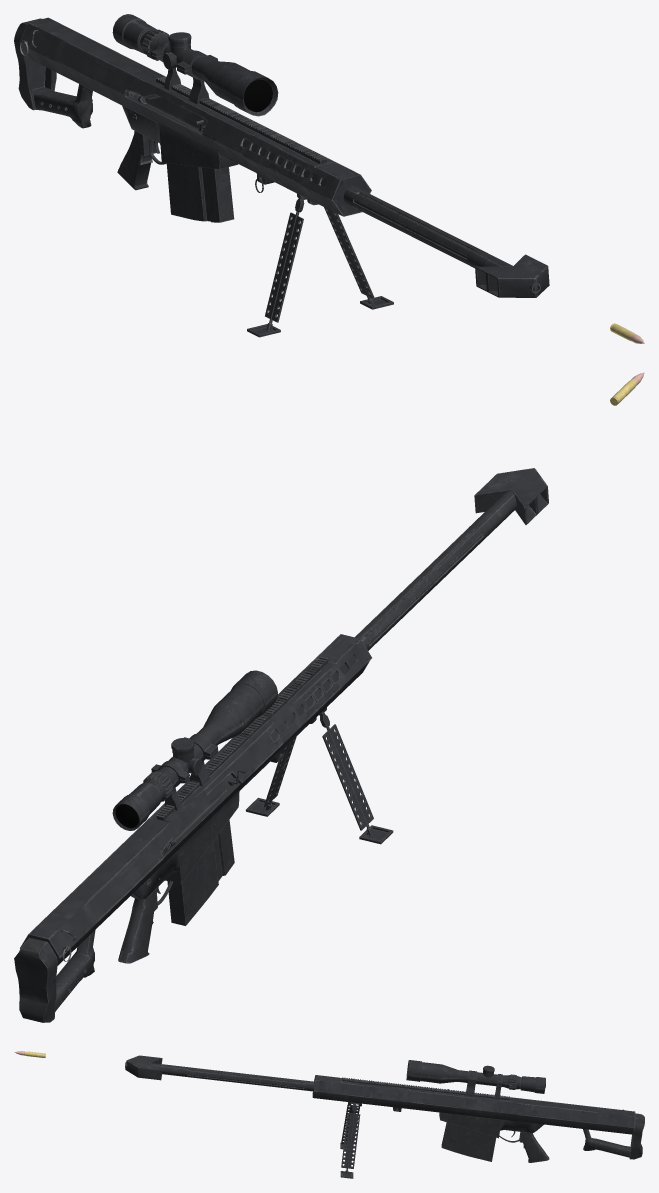
The model's file is gun-m82.glb.
The picture shows the model from 3 angles, top to bottom: view 1: azimuth 30°, elevation 25°; view 2: azimuth 150°, elevation 25°; view 3: azimuth 270°, elevation 25°; orthographic projection. The views are drawn at different scales.
Visible parts, largest first — view 1: NGon002, Box002, Cylinder008, Cylinder001, Rectangle001, OilTank002; view 2: NGon002, Box002, Cylinder008, Cylinder001, Rectangle001; view 3: NGon002, Box002, Cylinder008, Cylinder001, Rectangle001.
Part boxes in pixels (x1,y1,x2,y2): NGon002: (14, 17, 371, 216); Box002: (117, 105, 238, 222); Cylinder008: (112, 14, 278, 116); Cylinder001: (343, 186, 549, 297); Rectangle001: (247, 193, 393, 337); OilTank002: (244, 79, 272, 112); NGon002: (14, 634, 371, 1022); Box002: (118, 790, 239, 963); Cylinder008: (112, 670, 277, 830); Cylinder001: (355, 468, 548, 650); Rectangle001: (245, 707, 393, 844); NGon002: (312, 1075, 644, 1159); Box002: (439, 1112, 549, 1162); Cylinder008: (406, 1060, 545, 1099); Cylinder001: (125, 1055, 314, 1091); Rectangle001: (340, 1102, 361, 1178).
Size of the model in its own units: 1875 by 2865 by 14822.
Materials: 7 (6 with a texture image).
